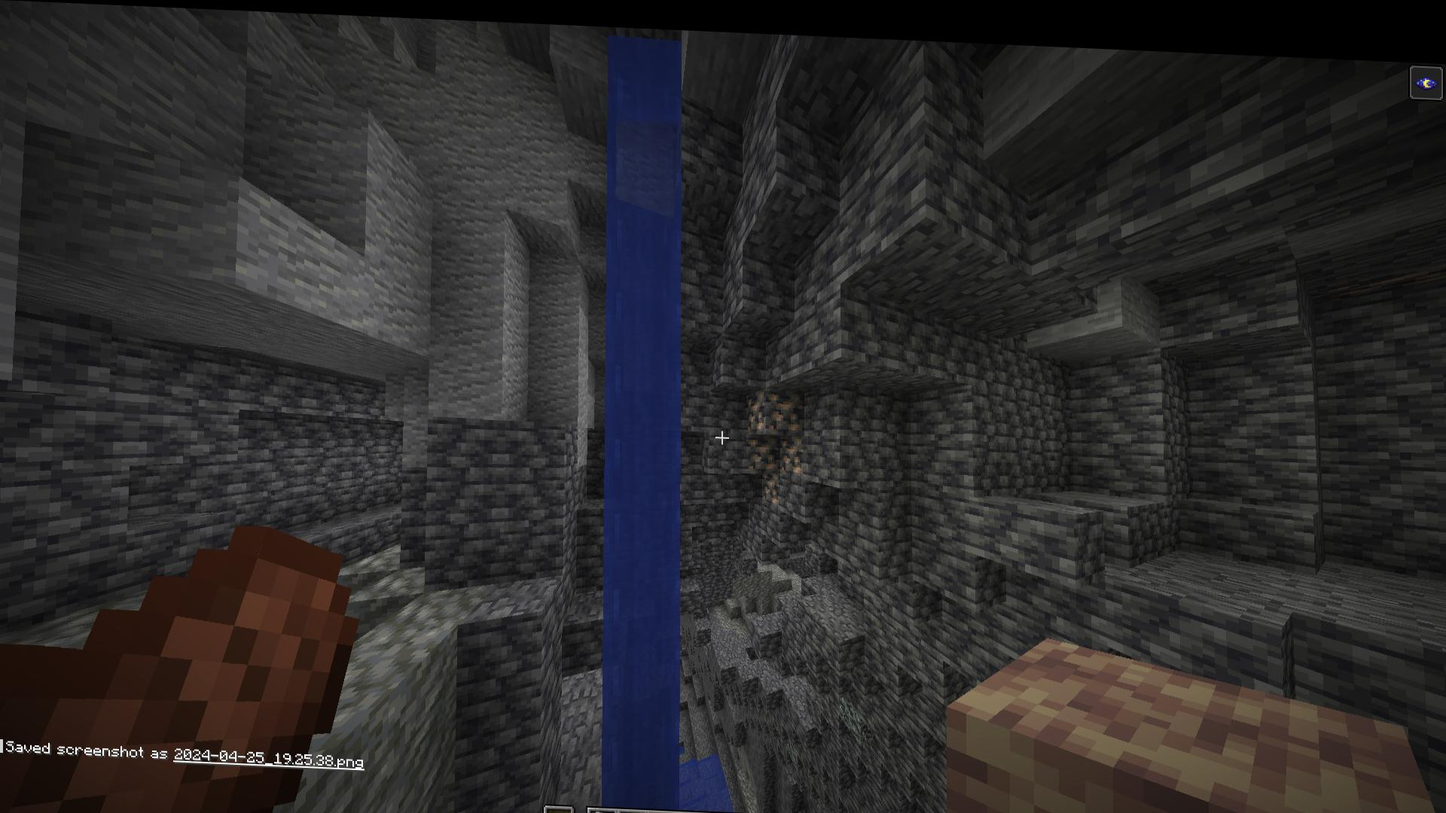iron ore: (746, 384, 806, 429), (744, 429, 778, 467), (778, 429, 802, 465), (762, 465, 780, 497)
